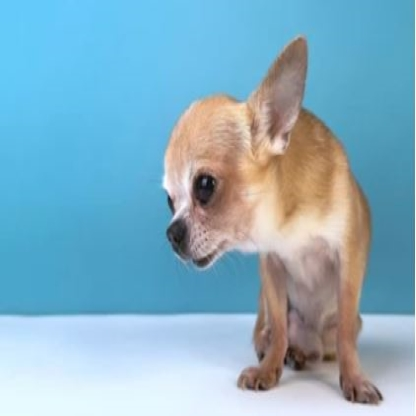chihuahua: (157, 32, 388, 408)
